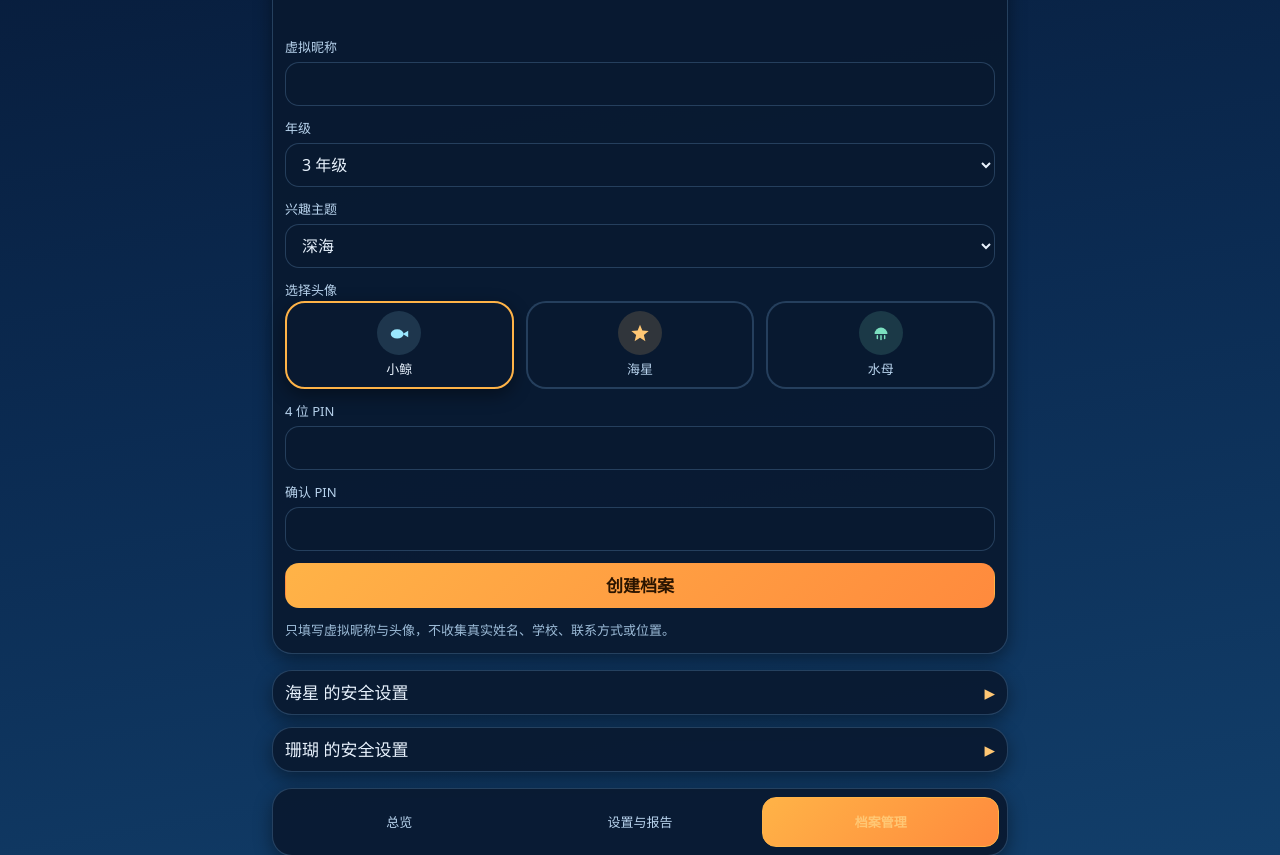
Test: views: 家长区三区页面 › 档案管理：安全区是可展开卡片，展开字形与 aria-expanded 同步
(page scrolled)
Expected: the 1st text with class "manage__toggle-glyph" reads "▸", 984,678 -> 995,706
Click the button with test id "manage-toggle-a". click: (347, 692)
box: 272,670 -> 1008,715
(page scrolled)
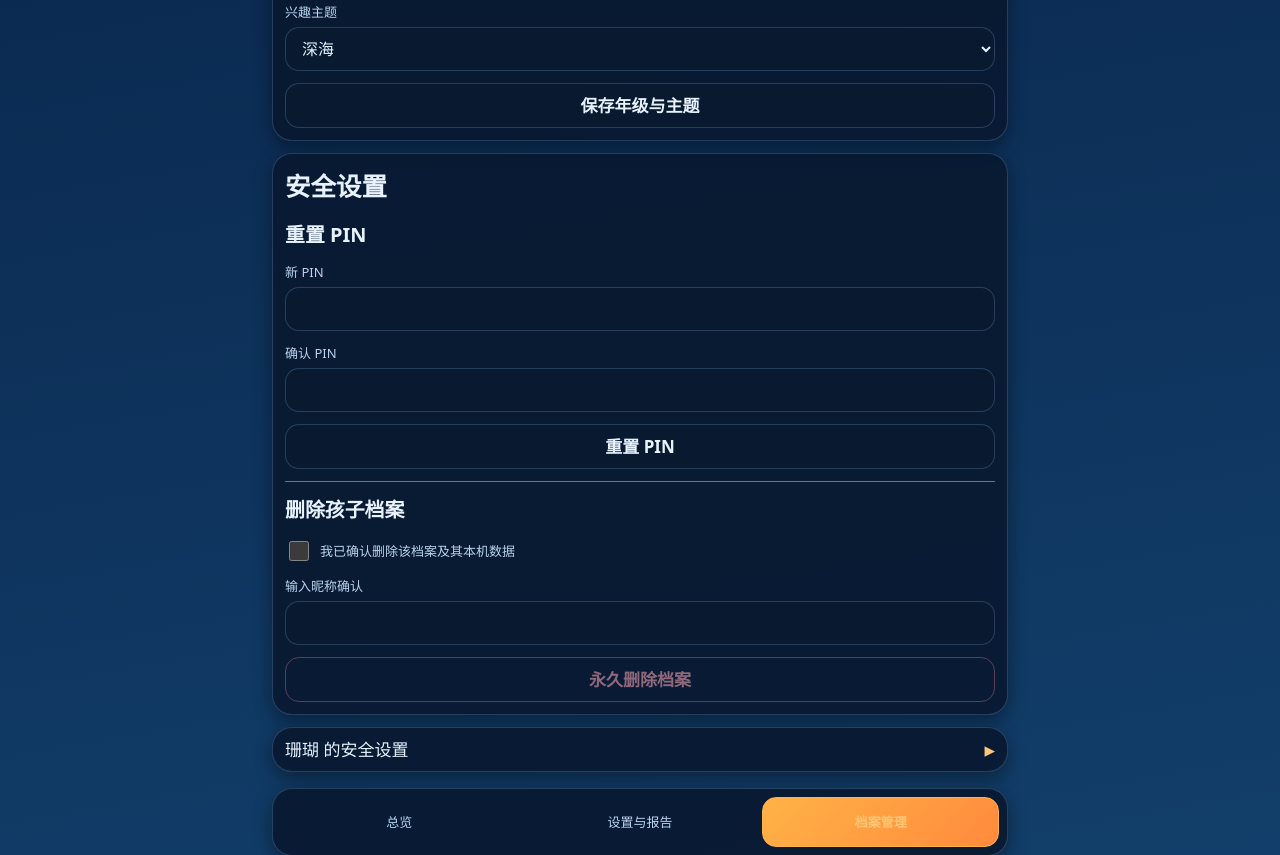
Expected: the element with test id "danger-zone" is shown, 272,153 -> 1008,715
Note: 一次只展开一个：展开 b 后 a 收起
Click the button with test id "manage-toggle-b". click: (347, 750)
box: 272,727 -> 1008,772
(page scrolled)
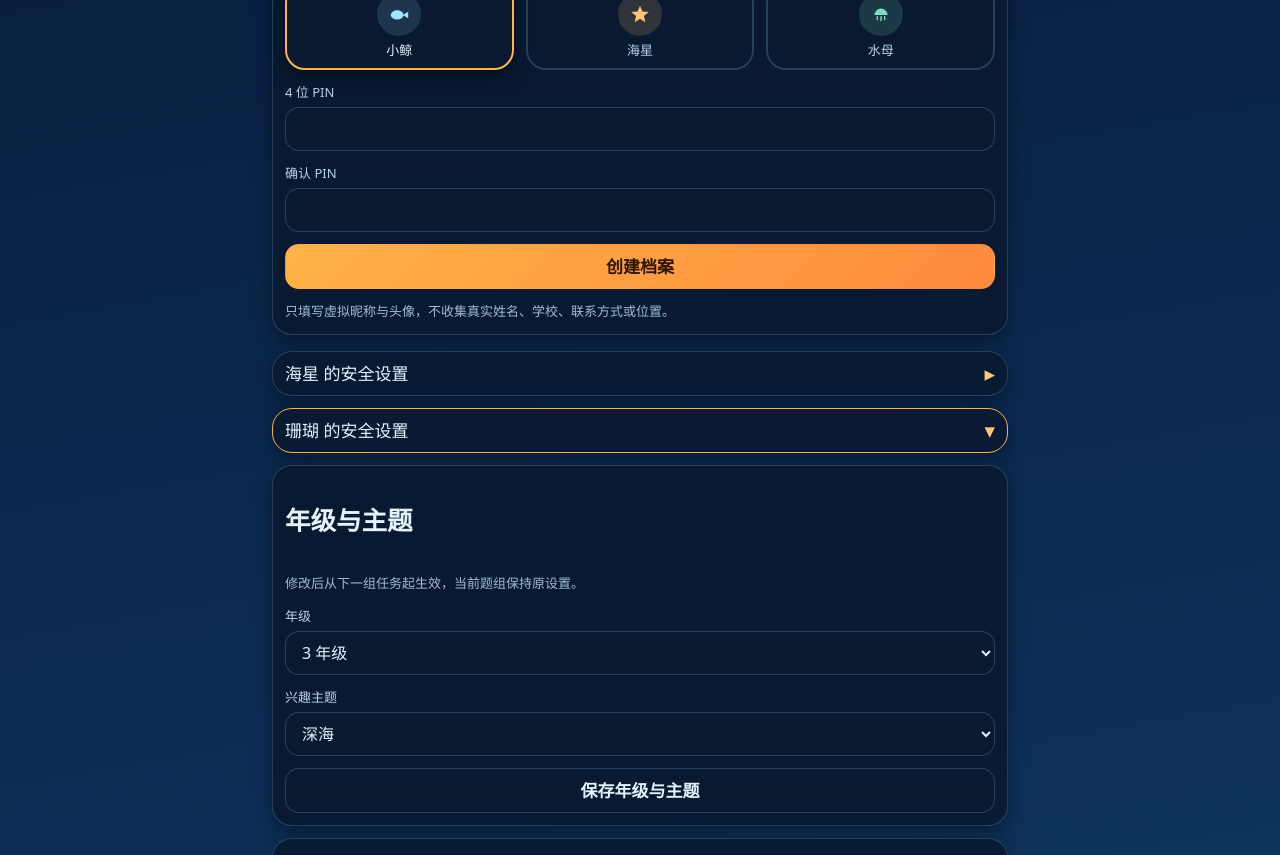
Expected: the button with test id "manage-toggle-a" is collapsed, 272,351 -> 1008,396
Expected: the button with test id "manage-toggle-b" is expanded, 272,408 -> 1008,453
